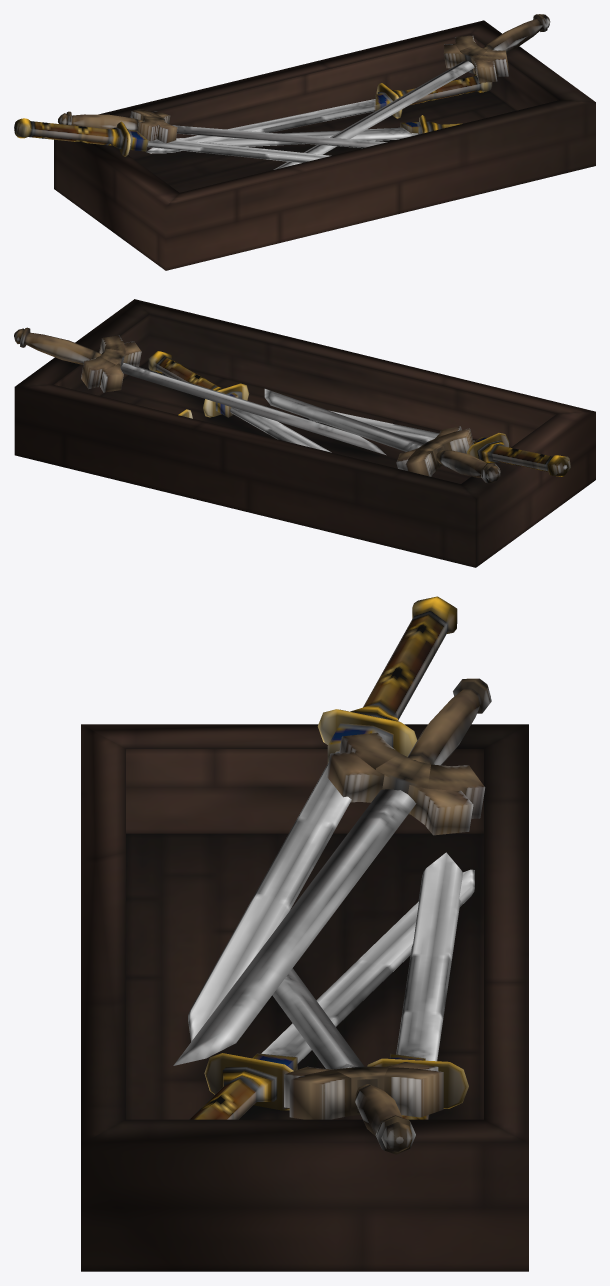
The model's file is sword crate.fbx.
3 views of the same model, one above another, from view 1: azimuth 30°, elevation 25°; view 2: azimuth 150°, elevation 25°; view 3: azimuth 270°, elevation 25° (orthographic). The views are drawn at different scales.
Visible parts, largest first — view 1: Sword_crate; view 2: Sword_crate; view 3: Sword_crate.
Part boxes in pixels (left/top/right/bottom): Sword_crate: left=14, top=14, right=595, bottom=270; Sword_crate: left=14, top=299, right=595, bottom=567; Sword_crate: left=81, top=596, right=528, bottom=1271.
Bounding box in the file's own units: 2.36 × 0.4316 × 0.8692.
